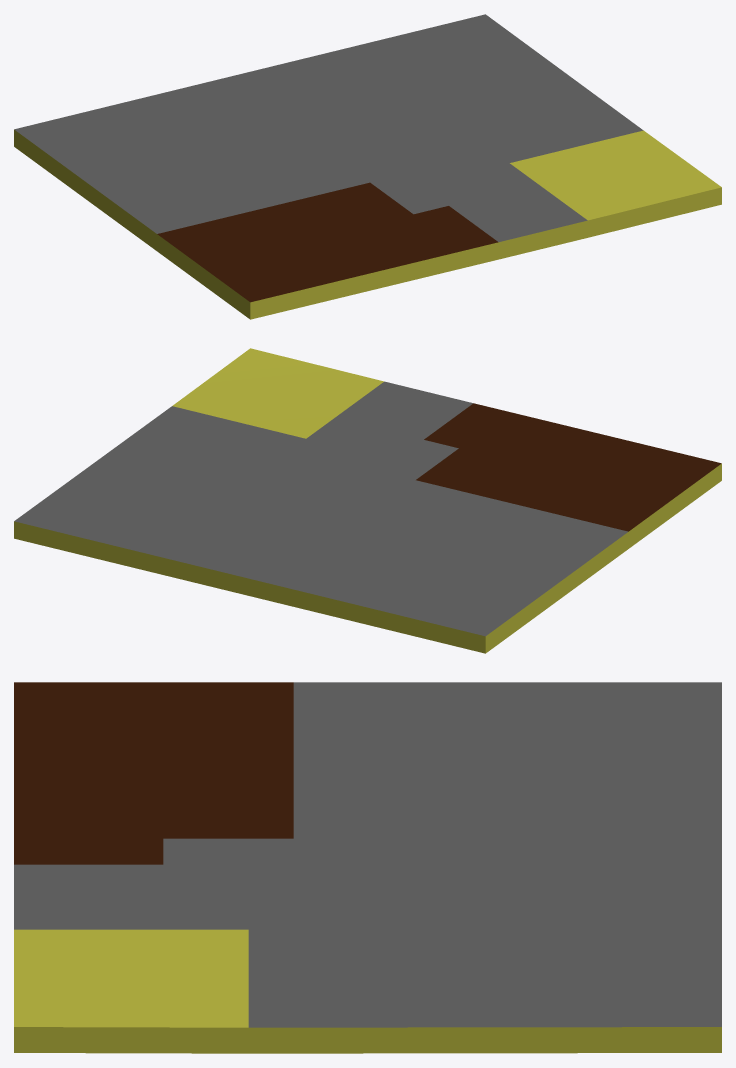
File: PisoHome.fbx
3 renders of one model, top to bottom at view 1: azimuth 30°, elevation 25°; view 2: azimuth 150°, elevation 25°; view 3: azimuth 270°, elevation 25°, orthographic. The views are drawn at different scales.
Visible parts, largest first — view 1: Line007; view 2: Line007; view 3: Line007.
Part boxes in pixels (x1,y1,x2,y2): Line007: (14,14,721,319); Line007: (14,348,721,653); Line007: (14,682,721,1053).
Size of the model in its own units: 1140 by 41.14 by 990.
